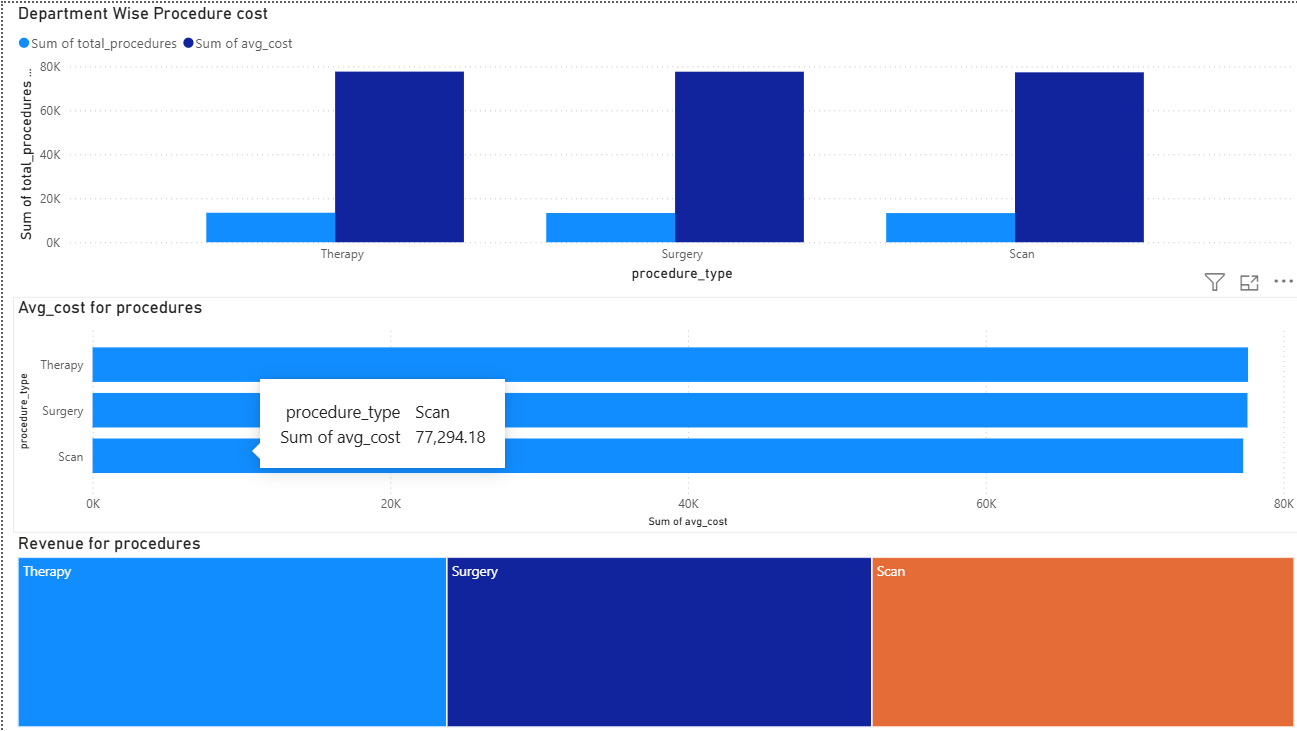

Layout of this report page (visuals, bound fields, positions):
{"tool":"powerbi","page":{"name":"Page 4","canvas":[1280,720],"ordinal":3},"visuals":[{"type":"clusteredColumnChart","title":"Department Wise Procedure cost ","fields":{"Category":["hospital_analytics vw_procedure_analysis.procedure_type"],"Y":["Sum(hospital_analytics vw_procedure_analysis.total_procedures)","Sum(hospital_analytics vw_procedure_analysis.avg_cost)"]},"box":[9.8,0,1270.5,280],"z":0},{"type":"clusteredBarChart","title":"Avg_cost for procedures","fields":{"Y":["Sum(hospital_analytics vw_procedure_analysis.avg_cost)"],"Category":["hospital_analytics vw_procedure_analysis.procedure_type"]},"box":[10,290,1270,233],"z":1000},{"type":"treemap","title":"Revenue for procedures","fields":{"Values":["Sum(hospital_analytics vw_procedure_analysis.total_cost)"],"Group":["hospital_analytics vw_procedure_analysis.procedure_type"]},"box":[9.8,523.4,1270.5,196.9],"z":2000}]}

Visuals, with their boxes in screenshot pixels (x1, y1, x2, y2), scaled from the page's 1280x720 canvas onto the 1297x731 screenshot:
"Department Wise Procedure cost " clusteredColumnChart: <bbox>10, 0, 1296, 284</bbox>
"Avg_cost for procedures" clusteredBarChart: <bbox>10, 294, 1296, 531</bbox>
"Revenue for procedures" treemap: <bbox>10, 531, 1296, 730</bbox>
